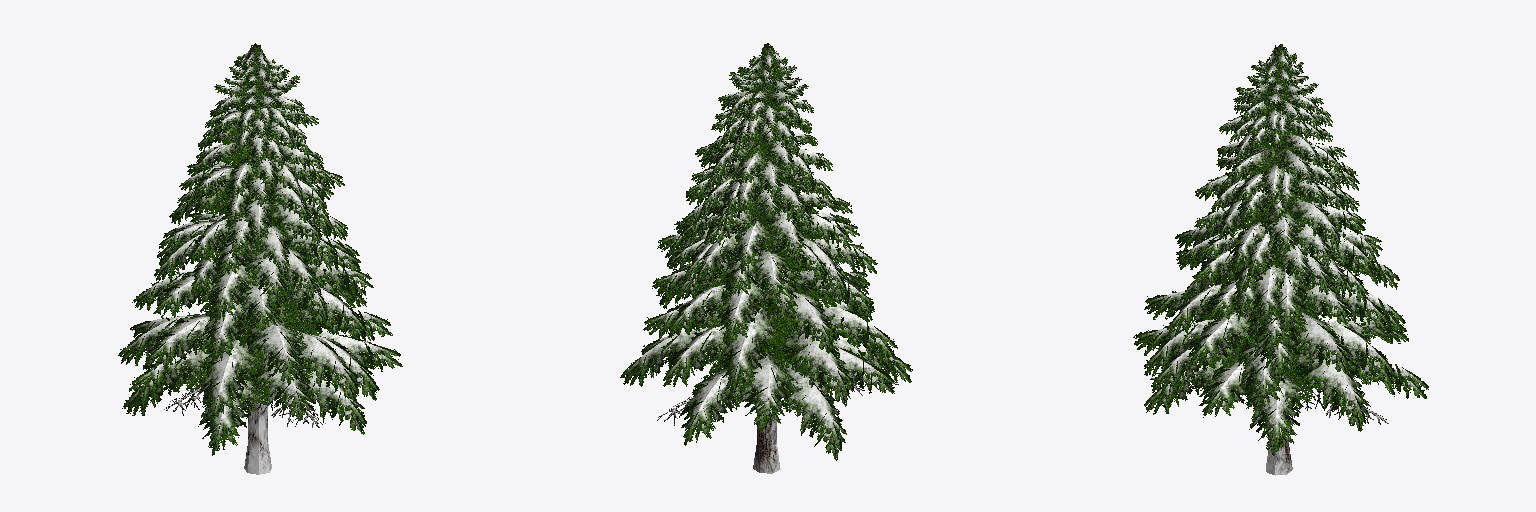
3 views of the same model, side by side, from view 1: azimuth 30°, elevation 25°; view 2: azimuth 150°, elevation 25°; view 3: azimuth 270°, elevation 25° (orthographic).
Parts seen in each view (by area): view 1: Object_3; view 2: Object_3; view 3: Object_3.
Boxes of the visible parts, x1,y1,x2,y2 form: Object_3: [118, 43, 402, 474]; Object_3: [620, 43, 912, 473]; Object_3: [1133, 44, 1428, 475].
Size of the model in its own units: 2.8 by 4.27 by 2.81.
1 materials, 1 textured.